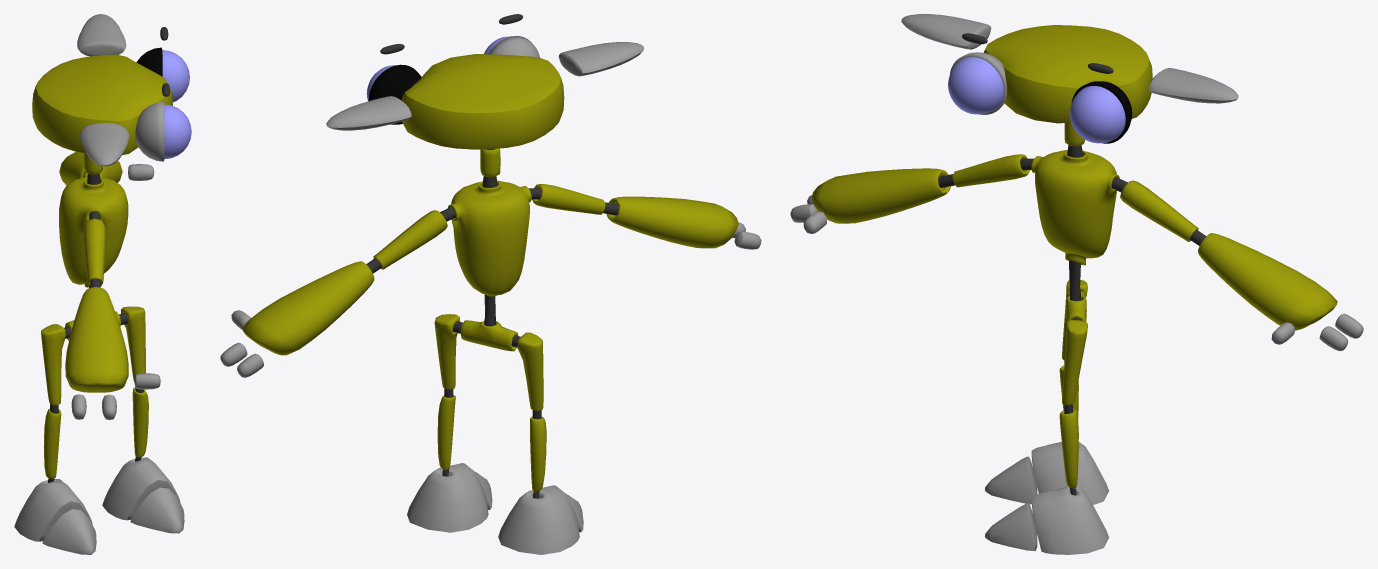
File: die7.obj
3 renders of one model, left to right at view 1: azimuth 30°, elevation 25°; view 2: azimuth 150°, elevation 25°; view 3: azimuth 270°, elevation 25°, orthographic. The views are drawn at different scales.
Parts seen in each view (by area): view 1: Mesh polySurface50, Mesh polySurface37, Mesh polySurface41, Mesh polySurface48, Mesh polySurface10, Mesh polySurface26, Mesh polySurface8, Mesh polySurface24, Mesh polySurface47, Mesh polySurface28, Mesh polySurface21, Mesh polySurface38 (+16 smaller); view 2: Mesh polySurface41, Mesh polySurface50, Mesh polySurface18, Mesh polySurface48, Mesh polySurface37, Mesh polySurface26, Mesh polySurface10, Mesh polySurface44, Mesh polySurface51, Mesh polySurface47, Mesh polySurface28, Mesh polySurface38 (+6 smaller); view 3: Mesh polySurface50, Mesh polySurface41, Mesh polySurface18, Mesh polySurface37, Mesh polySurface10, Mesh polySurface48, Mesh polySurface26, Mesh polySurface6, Mesh polySurface22, Mesh polySurface44, Mesh polySurface51, Mesh polySurface47 (+6 smaller).
Boxes of the visible parts, x1,y1,x2,y2 form: Mesh polySurface50: [36, 54, 167, 120]; Mesh polySurface37: [65, 287, 128, 392]; Mesh polySurface41: [59, 176, 128, 287]; Mesh polySurface48: [32, 83, 172, 154]; Mesh polySurface10: [102, 457, 180, 520]; Mesh polySurface26: [14, 479, 92, 541]; Mesh polySurface8: [130, 487, 184, 533]; Mesh polySurface24: [42, 509, 96, 554]; Mesh polySurface47: [80, 123, 128, 165]; Mesh polySurface28: [41, 324, 65, 405]; Mesh polySurface21: [135, 102, 164, 161]; Mesh polySurface38: [83, 218, 106, 286]; Mesh polySurface41: [448, 180, 531, 296]; Mesh polySurface50: [405, 54, 560, 113]; Mesh polySurface18: [242, 261, 374, 355]; Mesh polySurface48: [402, 74, 564, 149]; Mesh polySurface37: [606, 196, 738, 248]; Mesh polySurface26: [498, 485, 579, 554]; Mesh polySurface10: [407, 463, 488, 532]; Mesh polySurface44: [326, 96, 411, 127]; Mesh polySurface51: [373, 210, 447, 269]; Mesh polySurface47: [561, 42, 644, 73]; Mesh polySurface28: [517, 332, 543, 410]; Mesh polySurface38: [532, 184, 605, 214]; Mesh polySurface50: [985, 25, 1149, 88]; Mesh polySurface41: [1031, 150, 1119, 265]; Mesh polySurface18: [1198, 233, 1337, 330]; Mesh polySurface37: [811, 168, 950, 223]; Mesh polySurface10: [1031, 486, 1109, 554]; Mesh polySurface48: [983, 48, 1152, 123]; Mesh polySurface26: [1031, 442, 1108, 504]; Mesh polySurface6: [1069, 86, 1125, 143]; Mesh polySurface22: [948, 57, 1003, 114]; Mesh polySurface44: [1148, 68, 1238, 100]; Mesh polySurface51: [1120, 180, 1198, 241]; Mesh polySurface47: [901, 14, 988, 46].
Size of the model in its own units: 9.63 by 14.23 by 14.96.
